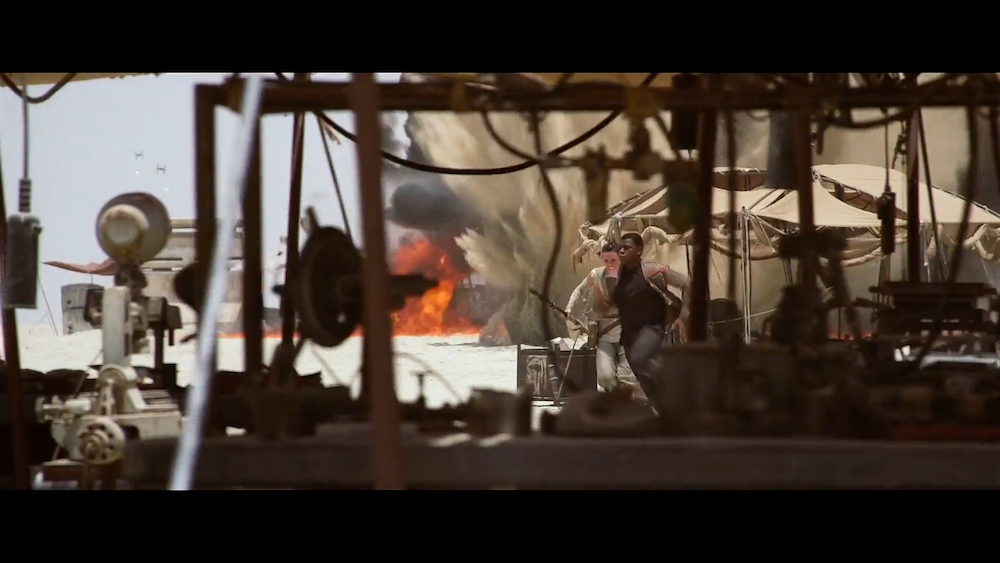Tie Fighter: (157, 165, 166, 176), (136, 151, 145, 160)
